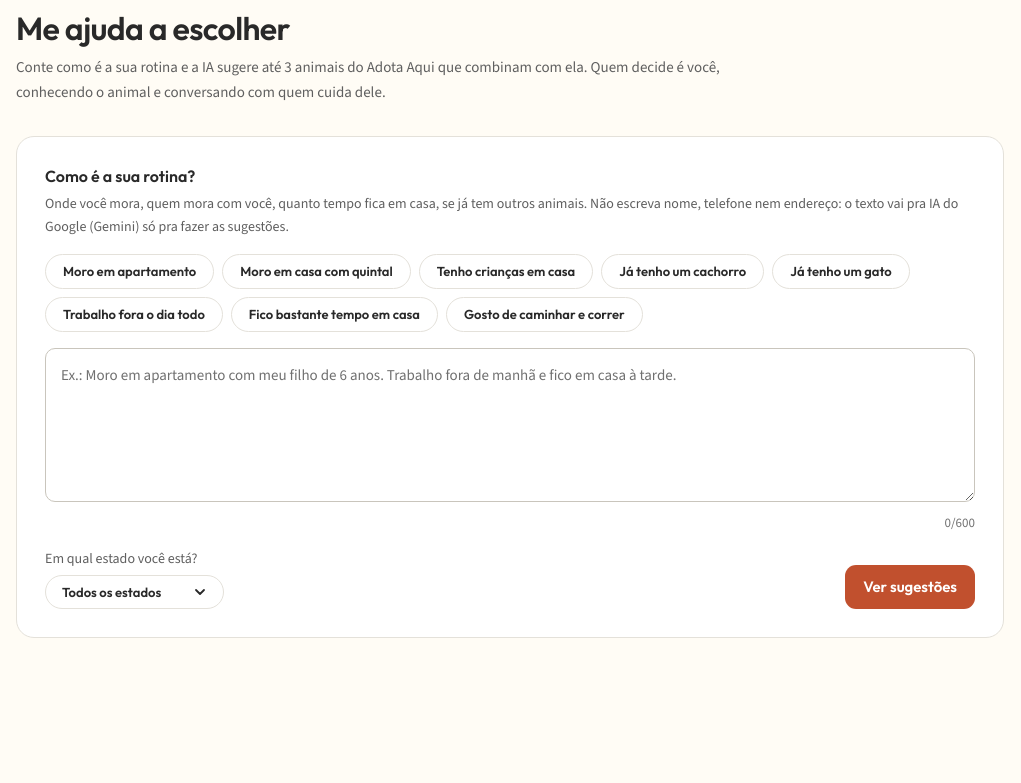
sem animal que combine, diz isso e mostra a dica
Replace the text in the text box labelled "Como é a sua rotina?" with "Moro em apartamento e trabalho fora de manhã." at point(510, 425), box [45, 348, 975, 502]
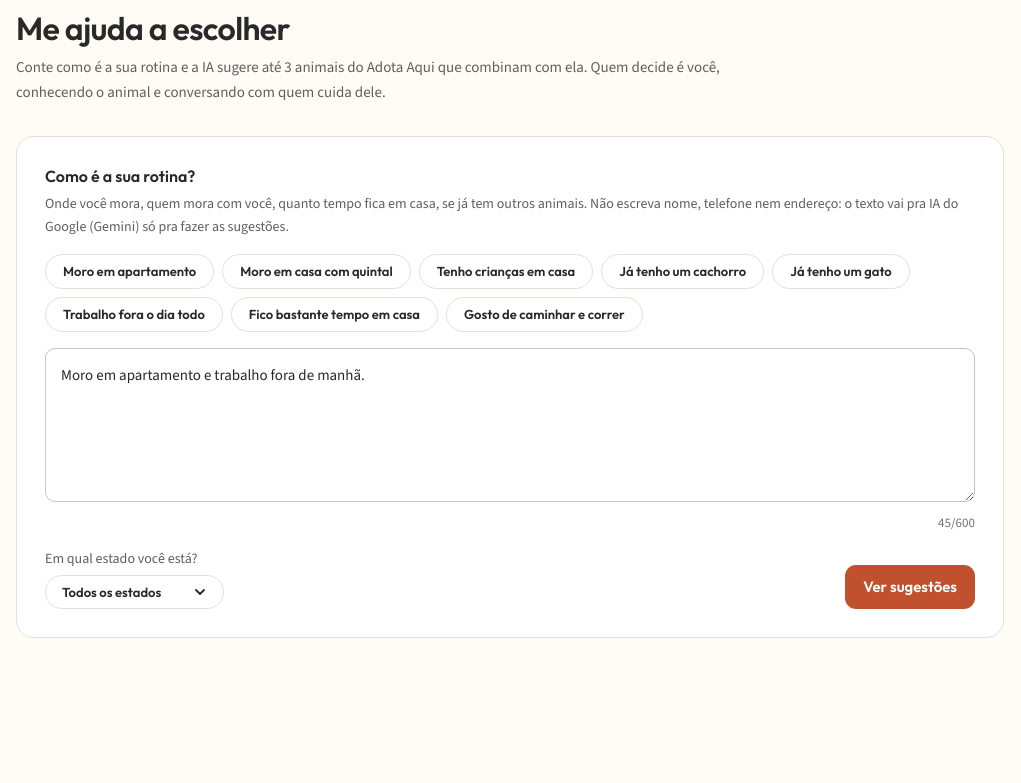
Click the button "Ver sugestões".
click(910, 587)  # box [845, 565, 975, 609]
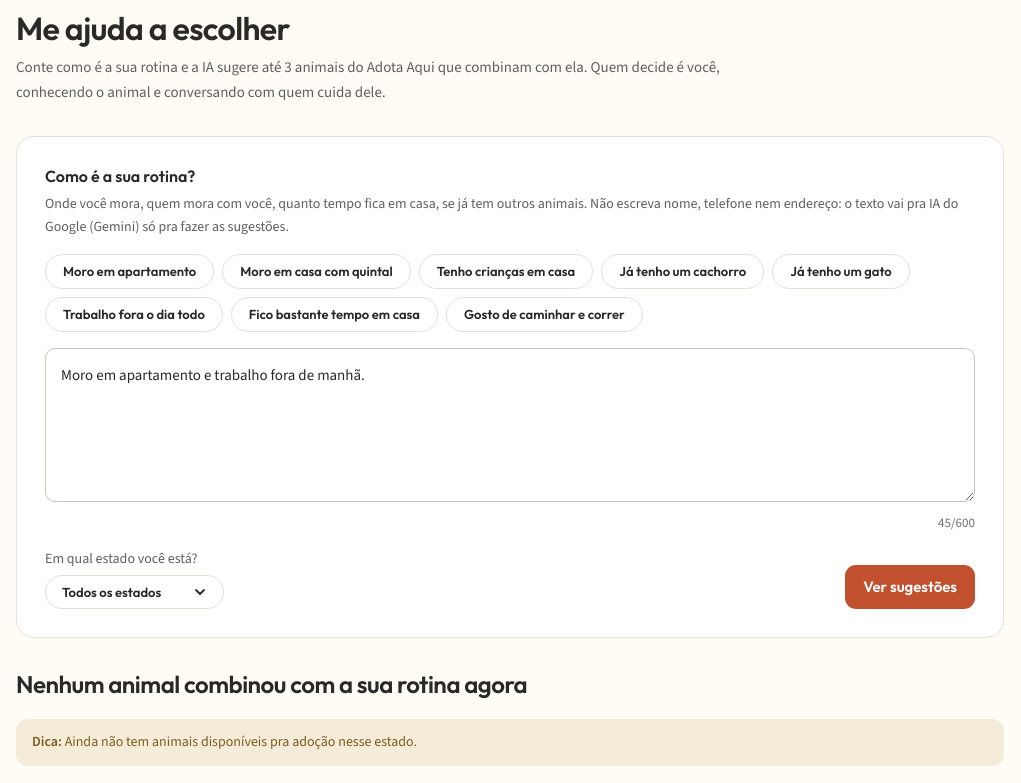
Expected: the heading "Nenhum animal combinou com a sua rotina agora" is shown, [16, 669, 527, 699]
Expected: the text "Ainda não tem animais disponíveis pra adoção nesse estado." is shown, [65, 732, 417, 751]
